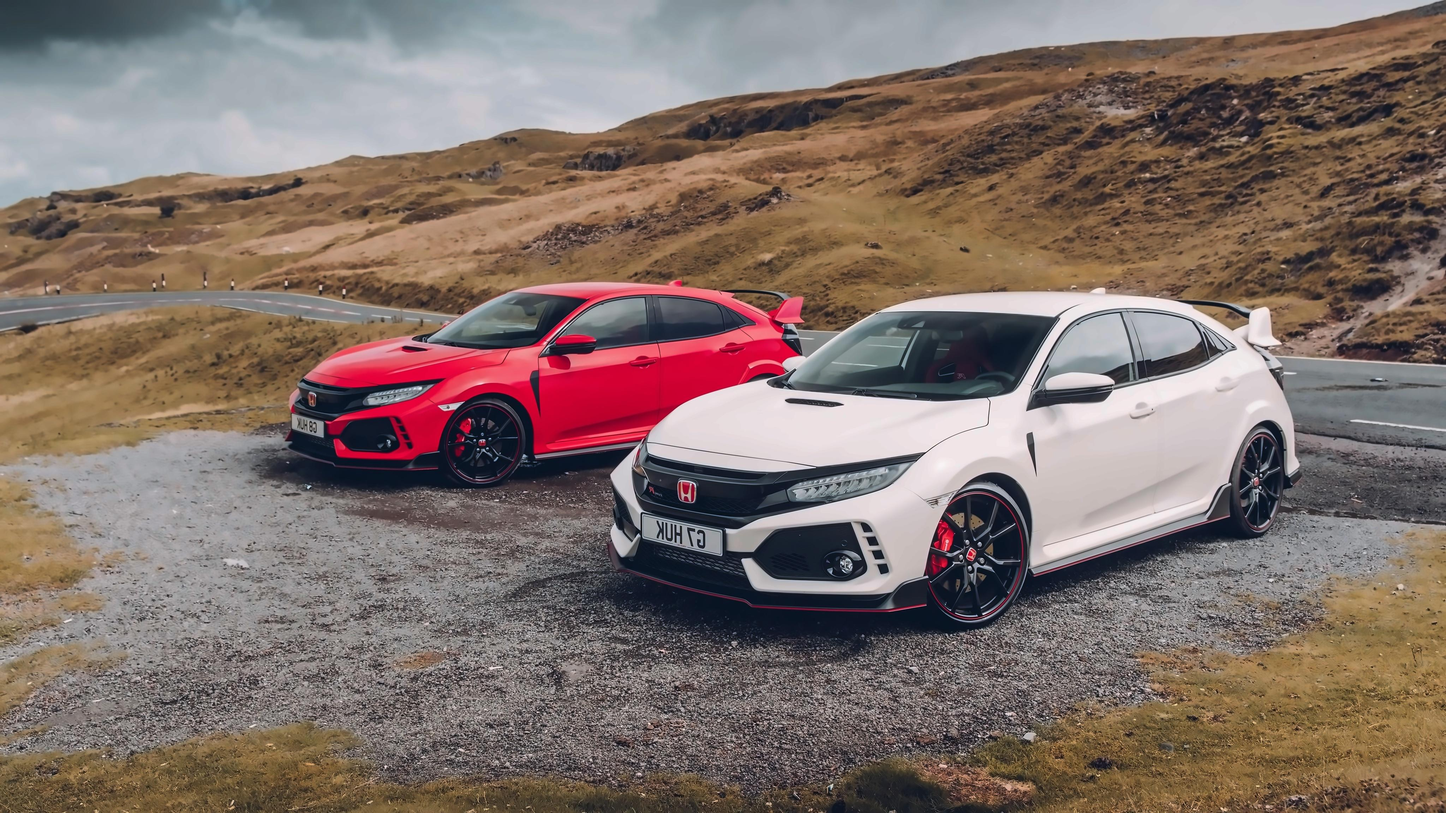Car hood: (644, 373, 994, 471), (305, 333, 512, 384)
Fender - -F-L-: (894, 366, 1040, 514), (423, 342, 549, 419)
Fender - -R-L-: (1200, 333, 1310, 466), (724, 300, 801, 384)
Front bumper: (603, 445, 942, 619), (270, 395, 460, 477)
Headlight - -L-: (784, 452, 919, 507), (1027, 371, 1116, 411)
Passenger-s door - -F-L-: (533, 286, 660, 462)
Passenger-s door - -R-L-: (1122, 285, 1236, 543), (649, 281, 758, 424)
Side bumper - -L-: (1022, 485, 1236, 616), (527, 413, 661, 470)
Side mirror - -L-: (1028, 288, 1165, 585), (540, 329, 601, 360)
